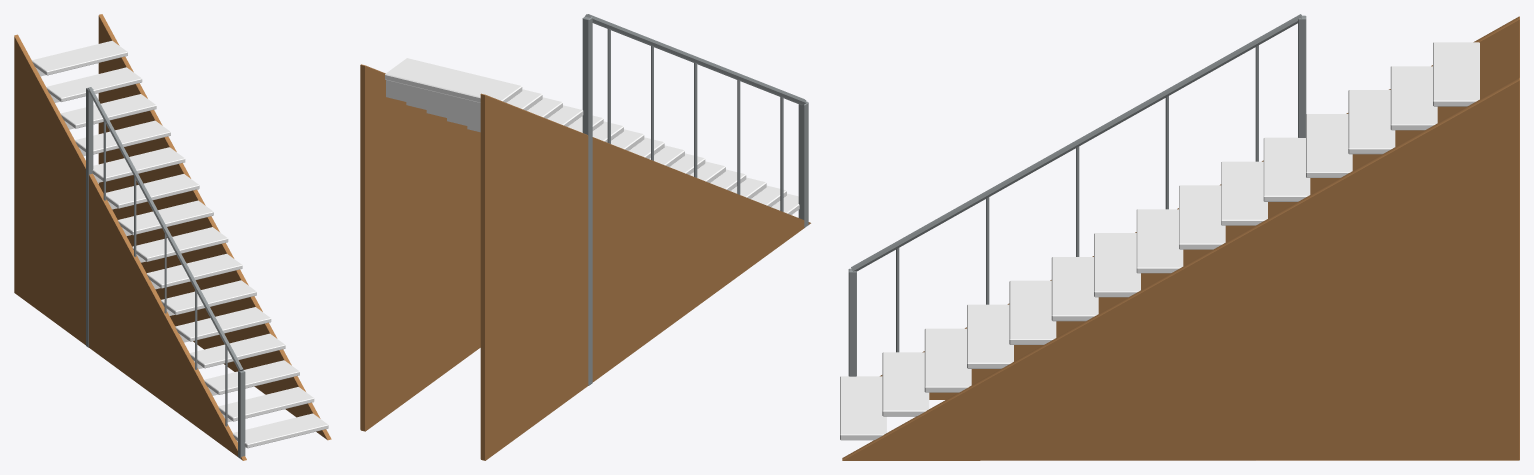
The model's file is stair-straight.glb.
3 views of the same model, side by side, from view 1: azimuth 30°, elevation 25°; view 2: azimuth 150°, elevation 25°; view 3: azimuth 270°, elevation 25° (orthographic). The views are drawn at different scales.
Visible parts, largest first — view 1: stair-straight.wood, stair-straight.tint, stair-straight.metal; view 2: stair-straight.wood, stair-straight.tint, stair-straight.metal; view 3: stair-straight.wood, stair-straight.tint, stair-straight.metal.
Part boxes in pixels (x1,y1,x2,y2): stair-straight.wood: (14,14,331,460); stair-straight.tint: (32,40,328,448); stair-straight.metal: (86,87,245,458); stair-straight.wood: (360,64,810,460); stair-straight.tint: (385,58,799,214); stair-straight.metal: (582,14,808,385); stair-straight.wood: (842,16,1519,460); stair-straight.tint: (840,42,1479,440); stair-straight.metal: (848,14,1306,376).
Bounding box in the file's own units: 1 × 2.8 × 4.48.
